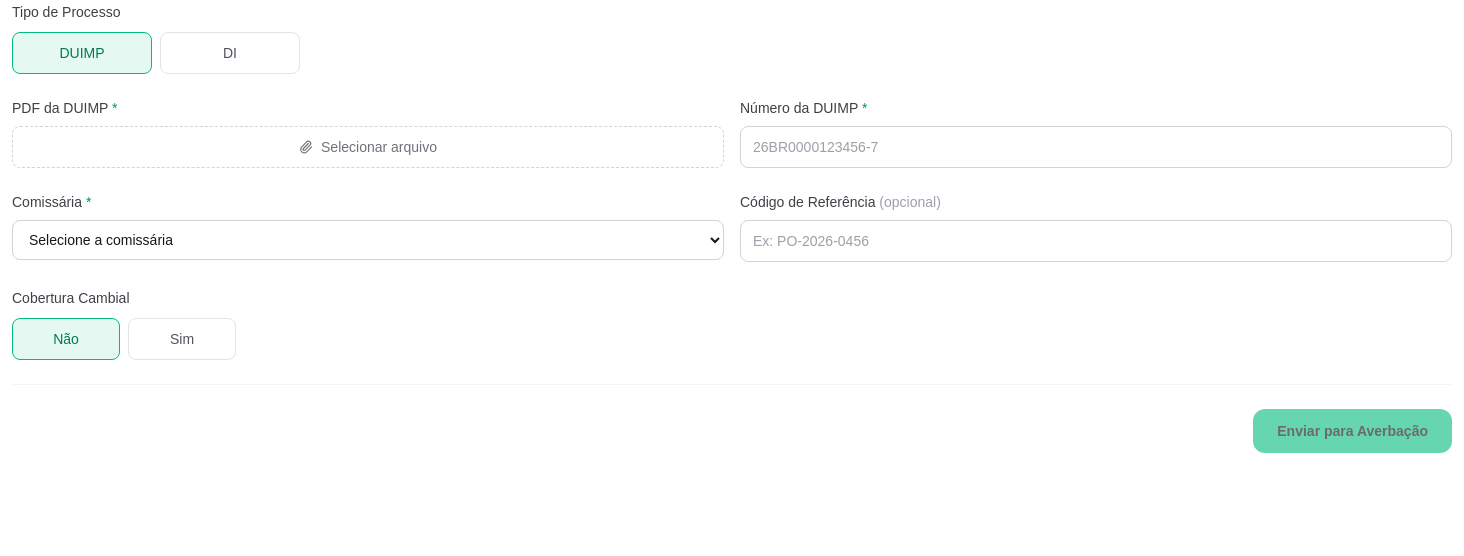
Test: AverbacaoForm › troca para os campos da DI ao selecionar esse tipo de processo
Click the radio button labelled "DI". click: (230, 53)
box: [160, 32, 300, 74]
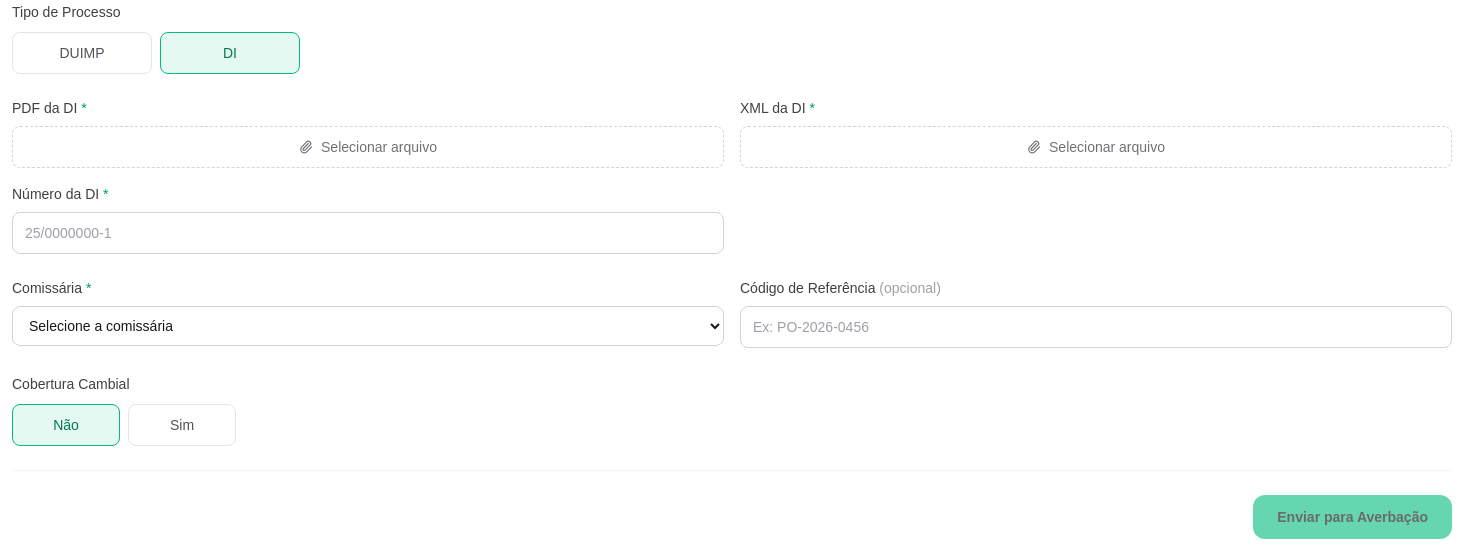
Result: the file field "PDF da DI *" is shown at [12, 100, 87, 116]
Result: the file field "XML da DI *" is shown at [740, 100, 815, 116]
Result: the file field "PDF da DUIMP" is gone
